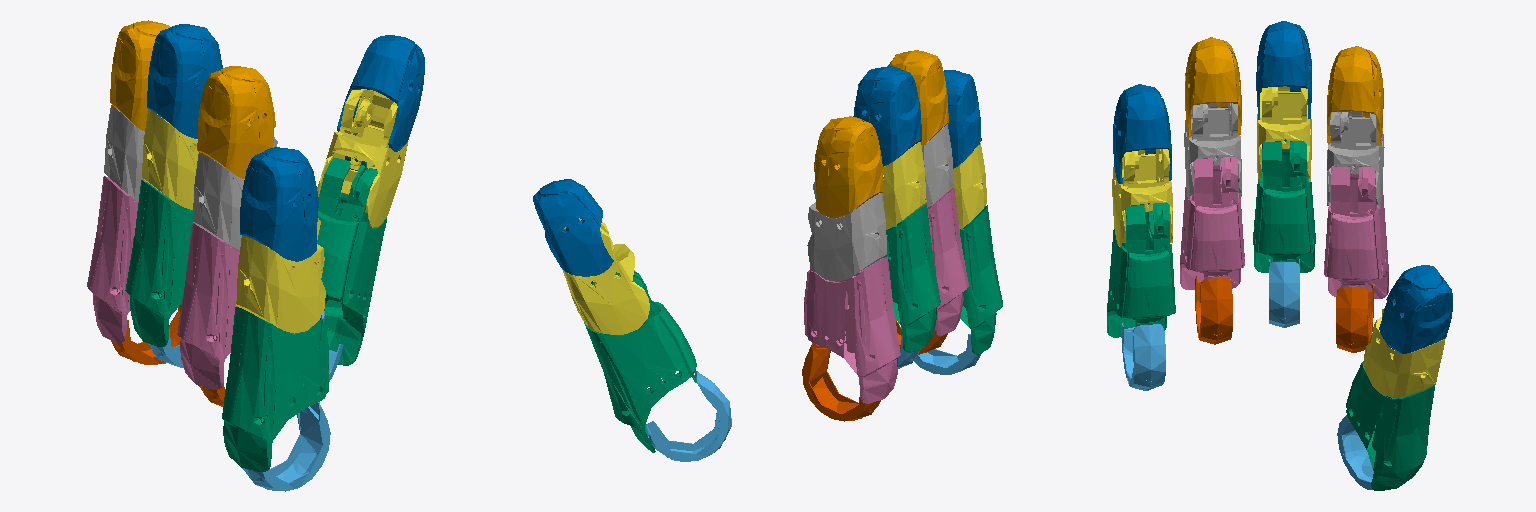
--- Render facts (derived) ---
Views: 3 orthographic renders of the robot side by side, from view 1: azimuth 30°, elevation 25°; view 2: azimuth 150°, elevation 25°; view 3: azimuth 270°, elevation 25°.
Robot: hithand — 21 links, 20 joints (20 revolute); root link base_link_hithand; default pose: every joint at zero.
Links seen in each view (by area): view 1: Right_Little_Phaprox, Right_Thumb_Phaprox, Right_Middle_Phaprox, Right_Ring_Phaprox, Right_Little_Phadist, Right_Ring_Phadist, Right_Little_Phamed, Right_Thumb_Phamed, Right_Middle_Phadist, Right_Index_Phaprox, Right_Thumb_Phadist, Right_Middle_Phamed (+5 smaller); view 2: Right_Index_Phaprox, Right_Thumb_Phaprox, Right_Index_Phadist, Right_Middle_Phaprox, Right_Thumb_Phadist, Right_Index_Phamed, Right_Thumb_Phamed, Right_Middle_Phadist, Right_Little_Phaprox, Right_Ring_Phaprox, Right_Ring_Phadist, Right_Middle_Phamed (+6 smaller); view 3: Right_Little_Phaprox, Right_Ring_Phaprox, Right_Index_Phaprox, Right_Middle_Phaprox, Right_Thumb_Phaprox, Right_Thumb_Phadist, Right_Little_Phadist, Right_Ring_Phadist, Right_Index_Phadist, Right_Thumb_Phamed, Right_Middle_Phadist, Right_Little_Phamed (+8 smaller).
Boxes of the visible links, x1,y1,x2,y2 form: Right_Little_Phaprox: [222, 307, 328, 471]; Right_Thumb_Phaprox: [317, 156, 386, 365]; Right_Middle_Phaprox: [125, 146, 195, 346]; Right_Ring_Phaprox: [177, 224, 239, 389]; Right_Little_Phadist: [240, 147, 318, 261]; Right_Ring_Phadist: [197, 66, 275, 178]; Right_Little_Phamed: [236, 218, 325, 333]; Right_Thumb_Phamed: [317, 89, 407, 227]; Right_Middle_Phadist: [147, 24, 222, 138]; Right_Index_Phaprox: [87, 176, 138, 342]; Right_Thumb_Phadist: [337, 35, 424, 151]; Right_Middle_Phamed: [142, 109, 198, 209]; Right_Index_Phaprox: [804, 256, 900, 403]; Right_Thumb_Phaprox: [584, 271, 696, 452]; Right_Index_Phadist: [814, 116, 882, 217]; Right_Middle_Phaprox: [884, 205, 940, 352]; Right_Thumb_Phadist: [533, 179, 613, 276]; Right_Index_Phamed: [807, 181, 886, 281]; Right_Thumb_Phamed: [562, 218, 649, 334]; Right_Middle_Phadist: [853, 66, 921, 166]; Right_Little_Phaprox: [960, 205, 1002, 354]; Right_Ring_Phaprox: [927, 188, 968, 335]; Right_Ring_Phadist: [888, 50, 948, 145]; Right_Middle_Phamed: [883, 142, 926, 229]; Right_Little_Phaprox: [1107, 202, 1175, 337]; Right_Ring_Phaprox: [1180, 156, 1244, 289]; Right_Index_Phaprox: [1324, 165, 1388, 298]; Right_Middle_Phaprox: [1253, 139, 1315, 272]; Right_Thumb_Phaprox: [1346, 361, 1435, 490]; Right_Thumb_Phadist: [1379, 265, 1452, 353]; Right_Little_Phadist: [1113, 84, 1171, 183]; Right_Ring_Phadist: [1185, 37, 1241, 136]; Right_Index_Phadist: [1327, 46, 1383, 145]; Right_Thumb_Phamed: [1364, 308, 1445, 397]; Right_Middle_Phadist: [1256, 21, 1311, 119]; Right_Little_Phamed: [1112, 149, 1172, 246].
Size in the robot's own frame: 0.1414 by 0.1313 by 0.1616 metres.
20 mesh visuals loaded from 5 distinct referenced files (4 OBJ); not drawn: 1 (reference not matched to a file when rendering).

The robot description file, URDF, robot "hithand":
<?xml version="1.0"?>
<robot name="hithand">
  <!-- ++++ Define all the links and joints ++++ -->
  <!-- Starting from the base -->

  <link name="base_link_hithand">
    <inertial>
      <origin rpy="0 0 0" xyz="0.0112 0.0 0.0566"/>
      <mass value="1.1485"/>
      <inertia ixx="2.2458e-3" ixy="-2.7421e-4" ixz="1.6e-5" iyy="2.2203e-3" iyz="-6.37e-5" izz="1.9003e-3"/>
    </inertial>
    <visual>
    <!-- here originally it's rpy = 0.0.0-->
      <origin rpy="1.57 0 0" xyz="0 0 0"/>
      <geometry>
        <mesh filename="visual/palm/hit-hand-2-palm-right-3faces.obj"/>
      </geometry>
      <material name="grey"/>
    </visual>
    <collision>
      <origin rpy="0 0 0" xyz="0 0 0"/>
      <geometry>
        <mesh filename="collision/palm/hit-hand-2-palm-right-merged.obj"/>
      </geometry>
    </collision>
  </link>
  <!-- Add a virtual palm link to get the transform of this point via TF for grasping (we align this frame with
        a normal of a point from an object point cloud.) -->
  <!-- <joint name="hithand_palm_joint" type="fixed">
    <parent link="base_link_hithand"/>
    <child link="palm_link_hithand"/>
    <origin rpy="-0.15 -1.3 0" xyz="0.02 0 0.06"/>
  </joint>
  <link name="palm_link_hithand"/> -->
  <!-- #########################FINGER######################## -->
  <!-- END of finger macro -->
  <!-- +++++ Finger base joint 0 ++++++ -->
  <joint name="Right_Thumb_0" type="revolute">
    <!-- joint origin in parent link frame -->
    <origin rpy="0.225810 -1.083656 0.411355" xyz="0.06217593 0.044372912 0.078734808"/>
    <parent link="base_link_hithand"/>
    <child link="Right_Thumb_Basecover"/>
    <axis xyz="0 0 1"/>
    <limit effort="15" lower="-0.261799" upper="0.261799" velocity="3.14"/>
    <dynamics damping="0.5" friction="0"/>
  </joint>
  <link name="Right_Thumb_Basecover">
    <inertial>
      <origin rpy="0 0 0" xyz="0.02749 0 0"/>
      <mass value="0.0176"/>
      <inertia ixx="1.3450e-6" ixy="0.0" ixz="-1.8183e-7" iyy="1.9874e-6" iyz="0.0" izz="1.0419e-6"/>
    </inertial>
    <visual>
      <origin rpy="0 0 0" xyz="0 0 0"/>
      <geometry>
        <mesh filename="visual/finger/hit-hand-2-finger-basecover-3faces.obj"/>
      </geometry>
      <material name="white"/>
    </visual>
    <collision>
      <origin rpy="0 0 0" xyz="0 0 0"/>
      <geometry name="hithand_Thumb_base_cover">
        <cylinder length="0.001" radius="0.001"/>
      </geometry>
    </collision>
  </link>
  <!-- +++++ Finger joint 1, Link: Phalanx proximalis ++++++ -->
  <joint name="Right_Thumb_1" type="revolute">
    <origin rpy="1.5708 0 0" xyz="0 0 0 "/>
    <parent link="Right_Thumb_Basecover"/>
    <child link="Right_Thumb_Phaprox"/>
    <axis xyz="0 0 1"/>
    <limit effort="1.15" lower="0.0" upper="1.48353" velocity="3.14"/>
    <!-- Effort limit based on max fingertip force of 10N. Finger tip is approx 11.5cm away from this joint.-->
    <dynamics damping="0.5" friction="0"/>
  </joint>
  <link name="Right_Thumb_Phaprox">
    <inertial>
      <origin rpy="0 0 0" xyz="0.03076 0.00297 0"/>
      <mass value="0.0232"/>
      <inertia ixx="2.5326e-6" ixy="-9.2551e-7" ixz="-4.0954e-8" iyy="6.9625e-6" iyz="-9.38e-9" izz="7.9108e-6"/>
    </inertial>
    <visual>
      <origin rpy="0 0 0" xyz="0 0 0"/>
      <geometry>
        <mesh filename="visual/finger/hit-hand-2-finger-phaprox-3faces.obj"/>
      </geometry>
      <material name="lightblue"/>
    </visual>
    <collision>
      <origin rpy="0 0 0" xyz="0 0 0"/>
      <geometry>
        <mesh filename="collision/finger/hit-hand-2-finger-phaprox.obj"/>
      </geometry>
    </collision>
  </link>
  <!-- +++++ Finger joint 2 Phalanx medialis ++++++ -->
  <joint name="Right_Thumb_2" type="revolute">
    <origin rpy="0 0 0" xyz="0.055 0 0"/>
    <parent link="Right_Thumb_Phaprox"/>
    <child link="Right_Thumb_Phamed"/>
    <axis xyz="0 0 1"/>
    <limit effort="0.6" lower="0.0" upper="1.13446" velocity="3.14"/>
    <!-- Effort limit based on max fingertip force of 10N. Finger tip is approx 6cm away from this joint.-->
    <dynamics damping="0.5" friction="0"/>
  </joint>
  <link name="Right_Thumb_Phamed">
    <inertial>
      <origin rpy="0 0 0" xyz="0.0097 -0.00036 0"/>
      <mass value="0.0158"/>
      <inertia ixx="1.1852e-6" ixy="-2.8845e-8" ixz="-6.1323e-9" iyy="2.4460e-6" iyz="2.4541e-9" izz="2.6537e-6"/>
    </inertial>
    <visual>
      <origin rpy="0 0 0" xyz="0 0 0"/>
      <geometry>
        <mesh filename="visual/finger/hit-hand-2-finger-phamed-3faces.obj"/>
      </geometry>
      <material name="white"/>
    </visual>
    <collision>
      <origin rpy="0 0 0" xyz="0 0 0"/>
      <geometry>
        <mesh filename="collision/finger/hit-hand-2-finger-phamed.obj"/>
      </geometry>
    </collision>
  </link>
  <!-- +++++ Finger joint 3 Phalanx distalis ++++++ -->
  <joint name="Right_Thumb_3" type="revolute">
    <origin rpy="0 0 -1.570796" xyz="0.025 0 0"/>
    <parent link="Right_Thumb_Phamed"/>
    <child link="Right_Thumb_Phadist"/>
    <axis xyz="0 0 1"/>
    <limit effort="0.35" lower="0.0" upper="1.13446" velocity="3.14"/>
    <!-- Effort limit based on max fingertip force of 10N. Finger tip is approx 3.5cm away from this joint.-->
    <dynamics damping="0.5" friction="0"/>
  </joint>
  <link name="Right_Thumb_Phadist">
    <inertial>
      <origin rpy="0 0 0" xyz="0.00072 0.00717 0.0"/>
      <mass value="0.0137"/>
      <inertia ixx="1.5519e-6" ixy="-2.037e-9" ixz="0.0" iyy="8.2972e-7" iyz="3.77e-9" izz="1.5788e-6"/>
    </inertial>
    <visual>
      <origin rpy="0 0 0" xyz="0 0 0"/>
      <geometry>
        <mesh filename="visual/finger/hit-hand-2-finger-phadist-3faces.obj"/>
      </geometry>
      <material name="lightblue"/>
    </visual>
    <collision>
      <origin rpy="0 0 0" xyz="0 0 0"/>
      <geometry>
        <mesh filename="collision/finger/hit-hand-2-finger-phadist.obj"/>
      </geometry>
    </collision>
  </link>
  <!-- +++++ Finger base joint 0 ++++++ -->
  <joint name="Right_Index_0" type="revolute">
    <!-- joint origin in parent link frame -->
    <origin rpy="3.054326 -1.570796 0.000000" xyz="-0.002529881 0.03680013 0.107783545"/>
    <parent link="base_link_hithand"/>
    <child link="Right_Index_Basecover"/>
    <axis xyz="0 0 1"/>
    <limit effort="15" lower="-0.261799" upper="0.261799" velocity="3.14"/>
    <dynamics damping="0.5" friction="0"/>
  </joint>
  <link name="Right_Index_Basecover">
    <inertial>
      <origin rpy="0 0 0" xyz="0.02749 0 0"/>
      <mass value="0.0176"/>
      <inertia ixx="1.3450e-6" ixy="0.0" ixz="-1.8183e-7" iyy="1.9874e-6" iyz="0.0" izz="1.0419e-6"/>
    </inertial>
    <visual>
      <origin rpy="0 0 0" xyz="0 0 0"/>
      <geometry>
        <mesh filename="visual/finger/hit-hand-2-finger-basecover-3faces.obj"/>
      </geometry>
      <material name="white"/>
    </visual>
    <collision>
      <origin rpy="0 0 0" xyz="0 0 0"/>
      <geometry name="hithand_Index_base_cover">
        <cylinder length="0.001" radius="0.001"/>
      </geometry>
    </collision>
  </link>
  <!-- +++++ Finger joint 1, Link: Phalanx proximalis ++++++ -->
  <joint name="Right_Index_1" type="revolute">
    <origin rpy="1.5708 0 0" xyz="0 0 0 "/>
    <parent link="Right_Index_Basecover"/>
    <child link="Right_Index_Phaprox"/>
    <axis xyz="0 0 1"/>
    <limit effort="1.15" lower="0.0" upper="1.48353" velocity="3.14"/>
    <!-- Effort limit based on max fingertip force of 10N. Finger tip is approx 11.5cm away from this joint.-->
    <dynamics damping="0.5" friction="0"/>
  </joint>
  <link name="Right_Index_Phaprox">
    <inertial>
      <origin rpy="0 0 0" xyz="0.03076 0.00297 0"/>
      <mass value="0.0232"/>
      <inertia ixx="2.5326e-6" ixy="-9.2551e-7" ixz="-4.0954e-8" iyy="6.9625e-6" iyz="-9.38e-9" izz="7.9108e-6"/>
    </inertial>
    <visual>
      <origin rpy="0 0 0" xyz="0 0 0"/>
      <geometry>
        <mesh filename="visual/finger/hit-hand-2-finger-phaprox-3faces.obj"/>
      </geometry>
      <material name="lightblue"/>
    </visual>
    <collision>
      <origin rpy="0 0 0" xyz="0 0 0"/>
      <geometry>
        <mesh filename="collision/finger/hit-hand-2-finger-phaprox.obj"/>
      </geometry>
    </collision>
  </link>
  <!-- +++++ Finger joint 2 Phalanx medialis ++++++ -->
  <joint name="Right_Index_2" type="revolute">
    <origin rpy="0 0 0" xyz="0.055 0 0"/>
    <parent link="Right_Index_Phaprox"/>
    <child link="Right_Index_Phamed"/>
    <axis xyz="0 0 1"/>
    <limit effort="0.6" lower="0.0" upper="1.13446" velocity="3.14"/>
    <!-- Effort limit based on max fingertip force of 10N. Finger tip is approx 6cm away from this joint.-->
    <dynamics damping="0.5" friction="0"/>
  </joint>
  <link name="Right_Index_Phamed">
    <inertial>
      <origin rpy="0 0 0" xyz="0.0097 -0.00036 0"/>
      <mass value="0.0158"/>
      <inertia ixx="1.1852e-6" ixy="-2.8845e-8" ixz="-6.1323e-9" iyy="2.4460e-6" iyz="2.4541e-9" izz="2.6537e-6"/>
    </inertial>
    <visual>
      <origin rpy="0 0 0" xyz="0 0 0"/>
      <geometry>
        <mesh filename="visual/finger/hit-hand-2-finger-phamed-3faces.obj"/>
      </geometry>
      <material name="white"/>
    </visual>
    <collision>
      <origin rpy="0 0 0" xyz="0 0 0"/>
      <geometry>
        <mesh filename="collision/finger/hit-hand-2-finger-phamed.obj"/>
      </geometry>
    </collision>
  </link>
  <!-- +++++ Finger joint 3 Phalanx distalis ++++++ -->
  <joint name="Right_Index_3" type="revolute">
    <origin rpy="0 0 -1.570796" xyz="0.025 0 0"/>
    <parent link="Right_Index_Phamed"/>
    <child link="Right_Index_Phadist"/>
    <axis xyz="0 0 1"/>
    <limit effort="0.35" lower="0.0" upper="1.13446" velocity="3.14"/>
    <!-- Effort limit based on max fingertip force of 10N. Finger tip is approx 3.5cm away from this joint.-->
    <dynamics damping="0.5" friction="0"/>
  </joint>
  <link name="Right_Index_Phadist">
    <inertial>
      <origin rpy="0 0 0" xyz="0.00072 0.00717 0.0"/>
      <mass value="0.0137"/>
      <inertia ixx="1.5519e-6" ixy="-2.037e-9" ixz="0.0" iyy="8.2972e-7" iyz="3.77e-9" izz="1.5788e-6"/>
    </inertial>
    <visual>
      <origin rpy="0 0 0" xyz="0 0 0"/>
      <geometry>
        <mesh filename="visual/finger/hit-hand-2-finger-phadist-3faces.obj"/>
      </geometry>
      <material name="lightblue"/>
    </visual>
    <collision>
      <origin rpy="0 0 0" xyz="0 0 0"/>
      <geometry>
        <mesh filename="collision/finger/hit-hand-2-finger-phadist.obj"/>
      </geometry>
    </collision>
  </link>
  <!-- +++++ Finger base joint 0 ++++++ -->
  <joint name="Right_Middle_0" type="revolute">
    <!-- joint origin in parent link frame -->
    <origin rpy="-3.141593 -1.570796 0.000000" xyz="-0.0037 0.01  0.117783545"/>
    <parent link="base_link_hithand"/>
    <child link="Right_Middle_Basecover"/>
    <axis xyz="0 0 1"/>
    <limit effort="15" lower="-0.261799" upper="0.261799" velocity="3.14"/>
    <dynamics damping="0.5" friction="0"/>
  </joint>
  <link name="Right_Middle_Basecover">
    <inertial>
      <origin rpy="0 0 0" xyz="0.02749 0 0"/>
      <mass value="0.0176"/>
      <inertia ixx="1.3450e-6" ixy="0.0" ixz="-1.8183e-7" iyy="1.9874e-6" iyz="0.0" izz="1.0419e-6"/>
    </inertial>
    <visual>
      <origin rpy="0 0 0" xyz="0 0 0"/>
      <geometry>
        <mesh filename="visual/finger/hit-hand-2-finger-basecover-3faces.obj"/>
      </geometry>
      <material name="white"/>
    </visual>
    <collision>
      <origin rpy="0 0 0" xyz="0 0 0"/>
      <geometry name="hithand_Middle_base_cover">
        <cylinder length="0.001" radius="0.001"/>
      </geometry>
    </collision>
  </link>
  <!-- +++++ Finger joint 1, Link: Phalanx proximalis ++++++ -->
  <joint name="Right_Middle_1" type="revolute">
    <origin rpy="1.5708 0 0" xyz="0 0 0 "/>
    <parent link="Right_Middle_Basecover"/>
    <child link="Right_Middle_Phaprox"/>
    <axis xyz="0 0 1"/>
    <limit effort="1.15" lower="0.0" upper="1.48353" velocity="3.14"/>
    <!-- Effort limit based on max fingertip force of 10N. Finger tip is approx 11.5cm away from this joint.-->
    <dynamics damping="0.5" friction="0"/>
  </joint>
  <link name="Right_Middle_Phaprox">
    <inertial>
      <origin rpy="0 0 0" xyz="0.03076 0.00297 0"/>
      <mass value="0.0232"/>
      <inertia ixx="2.5326e-6" ixy="-9.2551e-7" ixz="-4.0954e-8" iyy="6.9625e-6" iyz="-9.38e-9" izz="7.9108e-6"/>
    </inertial>
    <visual>
      <origin rpy="0 0 0" xyz="0 0 0"/>
      <geometry>
        <mesh filename="visual/finger/hit-hand-2-finger-phaprox-3faces.obj"/>
      </geometry>
      <material name="lightblue"/>
    </visual>
    <collision>
      <origin rpy="0 0 0" xyz="0 0 0"/>
      <geometry>
        <mesh filename="collision/finger/hit-hand-2-finger-phaprox.obj"/>
      </geometry>
    </collision>
  </link>
  <!-- +++++ Finger joint 2 Phalanx medialis ++++++ -->
  <joint name="Right_Middle_2" type="revolute">
    <origin rpy="0 0 0" xyz="0.055 0 0"/>
    <parent link="Right_Middle_Phaprox"/>
    <child link="Right_Middle_Phamed"/>
    <axis xyz="0 0 1"/>
    <limit effort="0.6" lower="0.0" upper="1.13446" velocity="3.14"/>
    <!-- Effort limit based on max fingertip force of 10N. Finger tip is approx 6cm away from this joint.-->
    <dynamics damping="0.5" friction="0"/>
  </joint>
  <link name="Right_Middle_Phamed">
    <inertial>
      <origin rpy="0 0 0" xyz="0.0097 -0.00036 0"/>
      <mass value="0.0158"/>
      <inertia ixx="1.1852e-6" ixy="-2.8845e-8" ixz="-6.1323e-9" iyy="2.4460e-6" iyz="2.4541e-9" izz="2.6537e-6"/>
    </inertial>
    <visual>
      <origin rpy="0 0 0" xyz="0 0 0"/>
      <geometry>
        <mesh filename="visual/finger/hit-hand-2-finger-phamed-3faces.obj"/>
      </geometry>
      <material name="white"/>
    </visual>
    <collision>
      <origin rpy="0 0 0" xyz="0 0 0"/>
      <geometry>
        <mesh filename="collision/finger/hit-hand-2-finger-phamed.obj"/>
      </geometry>
    </collision>
  </link>
  <!-- +++++ Finger joint 3 Phalanx distalis ++++++ -->
  <joint name="Right_Middle_3" type="revolute">
    <origin rpy="0 0 -1.570796" xyz="0.025 0 0"/>
    <parent link="Right_Middle_Phamed"/>
    <child link="Right_Middle_Phadist"/>
    <axis xyz="0 0 1"/>
    <limit effort="0.35" lower="0.0" upper="1.13446" velocity="3.14"/>
    <!-- Effort limit based on max fingertip force of 10N. Finger tip is approx 3.5cm away from this joint.-->
    <dynamics damping="0.5" friction="0"/>
  </joint>
  <link name="Right_Middle_Phadist">
    <inertial>
      <origin rpy="0 0 0" xyz="0.00072 0.00717 0.0"/>
      <mass value="0.0137"/>
      <inertia ixx="1.5519e-6" ixy="-2.037e-9" ixz="0.0" iyy="8.2972e-7" iyz="3.77e-9" izz="1.5788e-6"/>
    </inertial>
    <visual>
      <origin rpy="0 0 0" xyz="0 0 0"/>
      <geometry>
        <mesh filename="visual/finger/hit-hand-2-finger-phadist-3faces.obj"/>
      </geometry>
      <material name="lightblue"/>
    </visual>
    <collision>
      <origin rpy="0 0 0" xyz="0 0 0"/>
      <geometry>
        <mesh filename="collision/finger/hit-hand-2-finger-phadist.obj"/>
      </geometry>
    </collision>
  </link>
  <!-- +++++ Finger base joint 0 ++++++ -->
  <joint name="Right_Ring_0" type="revolute">
    <!-- joint origin in parent link frame -->
    <origin rpy="-3.054326 -1.570796 0.000000" xyz="0 -0.01680013 0.11258354"/>
    <parent link="base_link_hithand"/>
    <child link="Right_Ring_Basecover"/>
    <axis xyz="0 0 1"/>
    <limit effort="15" lower="-0.261799" upper="0.261799" velocity="3.14"/>
    <dynamics damping="0.5" friction="0"/>
  </joint>
  <link name="Right_Ring_Basecover">
    <inertial>
      <origin rpy="0 0 0" xyz="0.02749 0 0"/>
      <mass value="0.0176"/>
      <inertia ixx="1.3450e-6" ixy="0.0" ixz="-1.8183e-7" iyy="1.9874e-6" iyz="0.0" izz="1.0419e-6"/>
    </inertial>
    <visual>
      <origin rpy="0 0 0" xyz="0 0 0"/>
      <geometry>
        <mesh filename="visual/finger/hit-hand-2-finger-basecover-3faces.obj"/>
      </geometry>
      <material name="white"/>
    </visual>
    <collision>
      <origin rpy="0 0 0" xyz="0 0 0"/>
      <geometry name="hithand_Ring_base_cover">
        <cylinder length="0.001" radius="0.001"/>
      </geometry>
    </collision>
  </link>
  <!-- +++++ Finger joint 1, Link: Phalanx proximalis ++++++ -->
  <joint name="Right_Ring_1" type="revolute">
    <origin rpy="1.5708 0 0" xyz="0 0 0 "/>
    <parent link="Right_Ring_Basecover"/>
    <child link="Right_Ring_Phaprox"/>
    <axis xyz="0 0 1"/>
    <limit effort="1.15" lower="0.0" upper="1.48353" velocity="3.14"/>
    <!-- Effort limit based on max fingertip force of 10N. Finger tip is approx 11.5cm away from this joint.-->
    <dynamics damping="0.5" friction="0"/>
  </joint>
  <link name="Right_Ring_Phaprox">
    <inertial>
      <origin rpy="0 0 0" xyz="0.03076 0.00297 0"/>
      <mass value="0.0232"/>
      <inertia ixx="2.5326e-6" ixy="-9.2551e-7" ixz="-4.0954e-8" iyy="6.9625e-6" iyz="-9.38e-9" izz="7.9108e-6"/>
    </inertial>
    <visual>
      <origin rpy="0 0 0" xyz="0 0 0"/>
      <geometry>
        <mesh filename="visual/finger/hit-hand-2-finger-phaprox-3faces.obj"/>
      </geometry>
      <material name="lightblue"/>
    </visual>
    <collision>
      <origin rpy="0 0 0" xyz="0 0 0"/>
      <geometry>
        <mesh filename="collision/finger/hit-hand-2-finger-phaprox.obj"/>
      </geometry>
    </collision>
  </link>
  <!-- +++++ Finger joint 2 Phalanx medialis ++++++ -->
  <joint name="Right_Ring_2" type="revolute">
    <origin rpy="0 0 0" xyz="0.055 0 0"/>
    <parent link="Right_Ring_Phaprox"/>
    <child link="Right_Ring_Phamed"/>
    <axis xyz="0 0 1"/>
    <limit effort="0.6" lower="0.0" upper="1.13446" velocity="3.14"/>
    <!-- Effort limit based on max fingertip force of 10N. Finger tip is approx 6cm away from this joint.-->
    <dynamics damping="0.5" friction="0"/>
  </joint>
  <link name="Right_Ring_Phamed">
    <inertial>
      <origin rpy="0 0 0" xyz="0.0097 -0.00036 0"/>
      <mass value="0.0158"/>
      <inertia ixx="1.1852e-6" ixy="-2.8845e-8" ixz="-6.1323e-9" iyy="2.4460e-6" iyz="2.4541e-9" izz="2.6537e-6"/>
    </inertial>
    <visual>
      <origin rpy="0 0 0" xyz="0 0 0"/>
      <geometry>
        <mesh filename="visual/finger/hit-hand-2-finger-phamed-3faces.obj"/>
      </geometry>
      <material name="white"/>
    </visual>
    <collision>
      <origin rpy="0 0 0" xyz="0 0 0"/>
      <geometry>
        <mesh filename="collision/finger/hit-hand-2-finger-phamed.obj"/>
      </geometry>
    </collision>
  </link>
  <!-- +++++ Finger joint 3 Phalanx distalis ++++++ -->
  <joint name="Right_Ring_3" type="revolute">
    <origin rpy="0 0 -1.570796" xyz="0.025 0 0"/>
    <parent link="Right_Ring_Phamed"/>
    <child link="Right_Ring_Phadist"/>
    <axis xyz="0 0 1"/>
    <limit effort="0.35" lower="0.0" upper="1.13446" velocity="3.14"/>
    <!-- Effort limit based on max fingertip force of 10N. Finger tip is approx 3.5cm away from this joint.-->
    <dynamics damping="0.5" friction="0"/>
  </joint>
  <link name="Right_Ring_Phadist">
    <inertial>
      <origin rpy="0 0 0" xyz="0.00072 0.00717 0.0"/>
      <mass value="0.0137"/>
      <inertia ixx="1.5519e-6" ixy="-2.037e-9" ixz="0.0" iyy="8.2972e-7" iyz="3.77e-9" izz="1.5788e-6"/>
    </inertial>
    <visual>
      <origin rpy="0 0 0" xyz="0 0 0"/>
      <geometry>
        <mesh filename="visual/finger/hit-hand-2-finger-phadist-3faces.obj"/>
      </geometry>
      <material name="lightblue"/>
    </visual>
    <collision>
      <origin rpy="0 0 0" xyz="0 0 0"/>
      <geometry>
        <mesh filename="collision/finger/hit-hand-2-finger-phadist.obj"/>
      </geometry>
    </collision>
  </link>
  <!-- +++++ Finger base joint 0 ++++++ -->
  <joint name="Right_Little_0" type="revolute">
    <!-- joint origin in parent link frame -->
    <origin rpy="-2.967060 -1.570796 0.000000" xyz="0.000971571 -0.0433963 0.093583545"/>
    <parent link="base_link_hithand"/>
    <child link="Right_Little_Basecover"/>
    <axis xyz="0 0 1"/>
    <limit effort="15" lower="-0.261799" upper="0.261799" velocity="3.14"/>
    <dynamics damping="0.5" friction="0"/>
  </joint>
  <link name="Right_Little_Basecover">
    <inertial>
      <origin rpy="0 0 0" xyz="0.02749 0 0"/>
      <mass value="0.0176"/>
      <inertia ixx="1.3450e-6" ixy="0.0" ixz="-1.8183e-7" iyy="1.9874e-6" iyz="0.0" izz="1.0419e-6"/>
    </inertial>
    <visual>
      <origin rpy="0 0 0" xyz="0 0 0"/>
      <geometry>
        <mesh filename="visual/finger/hit-hand-2-finger-basecover-3faces.obj"/>
      </geometry>
      <material name="white"/>
    </visual>
    <collision>
      <origin rpy="0 0 0" xyz="0 0 0"/>
      <geometry name="hithand_Little_base_cover">
        <cylinder length="0.001" radius="0.001"/>
      </geometry>
    </collision>
  </link>
  <!-- +++++ Finger joint 1, Link: Phalanx proximalis ++++++ -->
  <joint name="Right_Little_1" type="revolute">
    <origin rpy="1.5708 0 0" xyz="0 0 0 "/>
    <parent link="Right_Little_Basecover"/>
    <child link="Right_Little_Phaprox"/>
    <axis xyz="0 0 1"/>
    <limit effort="1.15" lower="0.0" upper="1.48353" velocity="3.14"/>
    <!-- Effort limit based on max fingertip force of 10N. Finger tip is approx 11.5cm away from this joint.-->
    <dynamics damping="0.5" friction="0"/>
  </joint>
  <link name="Right_Little_Phaprox">
    <inertial>
      <origin rpy="0 0 0" xyz="0.03076 0.00297 0"/>
      <mass value="0.0232"/>
      <inertia ixx="2.5326e-6" ixy="-9.2551e-7" ixz="-4.0954e-8" iyy="6.9625e-6" iyz="-9.38e-9" izz="7.9108e-6"/>
    </inertial>
    <visual>
      <origin rpy="0 0 0" xyz="0 0 0"/>
      <geometry>
        <mesh filename="visual/finger/hit-hand-2-finger-phaprox-3faces.obj"/>
      </geometry>
      <material name="lightblue"/>
    </visual>
    <collision>
      <origin rpy="0 0 0" xyz="0 0 0"/>
      <geometry>
        <mesh filename="collision/finger/hit-hand-2-finger-phaprox.obj"/>
      </geometry>
    </collision>
  </link>
  <!-- +++++ Finger joint 2 Phalanx medialis ++++++ -->
  <joint name="Right_Little_2" type="revolute">
    <origin rpy="0 0 0" xyz="0.055 0 0"/>
    <parent link="Right_Little_Phaprox"/>
    <child link="Right_Little_Phamed"/>
    <axis xyz="0 0 1"/>
    <limit effort="0.6" lower="0.0" upper="1.13446" velocity="3.14"/>
    <!-- Effort limit based on max fingertip force of 10N. Finger tip is approx 6cm away from this joint.-->
    <dynamics damping="0.5" friction="0"/>
  </joint>
  <link name="Right_Little_Phamed">
    <inertial>
      <origin rpy="0 0 0" xyz="0.0097 -0.00036 0"/>
      <mass value="0.0158"/>
      <inertia ixx="1.1852e-6" ixy="-2.8845e-8" ixz="-6.1323e-9" iyy="2.4460e-6" iyz="2.4541e-9" izz="2.6537e-6"/>
    </inertial>
    <visual>
      <origin rpy="0 0 0" xyz="0 0 0"/>
      <geometry>
        <mesh filename="visual/finger/hit-hand-2-finger-phamed-3faces.obj"/>
      </geometry>
      <material name="white"/>
    </visual>
    <collision>
      <origin rpy="0 0 0" xyz="0 0 0"/>
      <geometry>
        <mesh filename="collision/finger/hit-hand-2-finger-phamed.obj"/>
      </geometry>
    </collision>
  </link>
  <!-- +++++ Finger joint 3 Phalanx distalis ++++++ -->
  <joint name="Right_Little_3" type="revolute">
    <origin rpy="0 0 -1.570796" xyz="0.025 0 0"/>
    <parent link="Right_Little_Phamed"/>
    <child link="Right_Little_Phadist"/>
    <axis xyz="0 0 1"/>
    <limit effort="0.35" lower="0.0" upper="1.13446" velocity="3.14"/>
    <!-- Effort limit based on max fingertip force of 10N. Finger tip is approx 3.5cm away from this joint.-->
    <dynamics damping="0.5" friction="0"/>
  </joint>
  <link name="Right_Little_Phadist">
    <inertial>
      <origin rpy="0 0 0" xyz="0.00072 0.00717 0.0"/>
      <mass value="0.0137"/>
      <inertia ixx="1.5519e-6" ixy="-2.037e-9" ixz="0.0" iyy="8.2972e-7" iyz="3.77e-9" izz="1.5788e-6"/>
    </inertial>
    <visual>
      <origin rpy="0 0 0" xyz="0 0 0"/>
      <geometry>
        <mesh filename="visual/finger/hit-hand-2-finger-phadist-3faces.obj"/>
      </geometry>
      <material name="lightblue"/>
    </visual>
    <collision>
      <origin rpy="0 0 0" xyz="0 0 0"/>
      <geometry>
        <mesh filename="collision/finger/hit-hand-2-finger-phadist.obj"/>
      </geometry>
    </collision>
  </link>
</robot>
